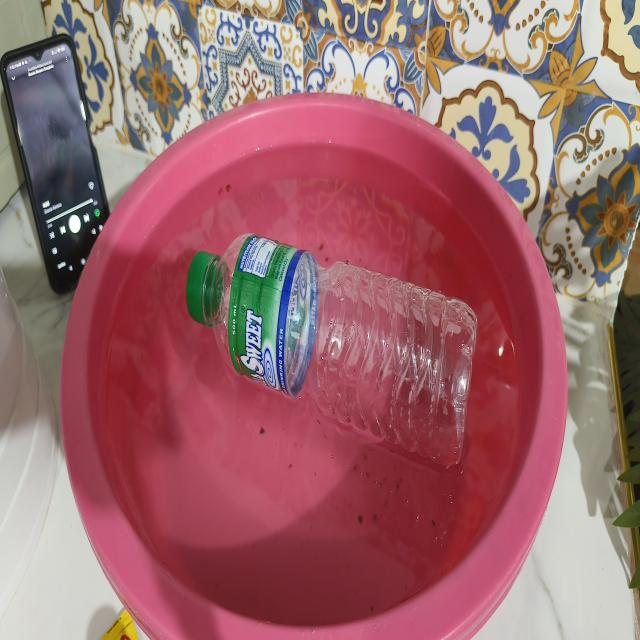Plastic Bottle: (186, 234, 477, 468)
